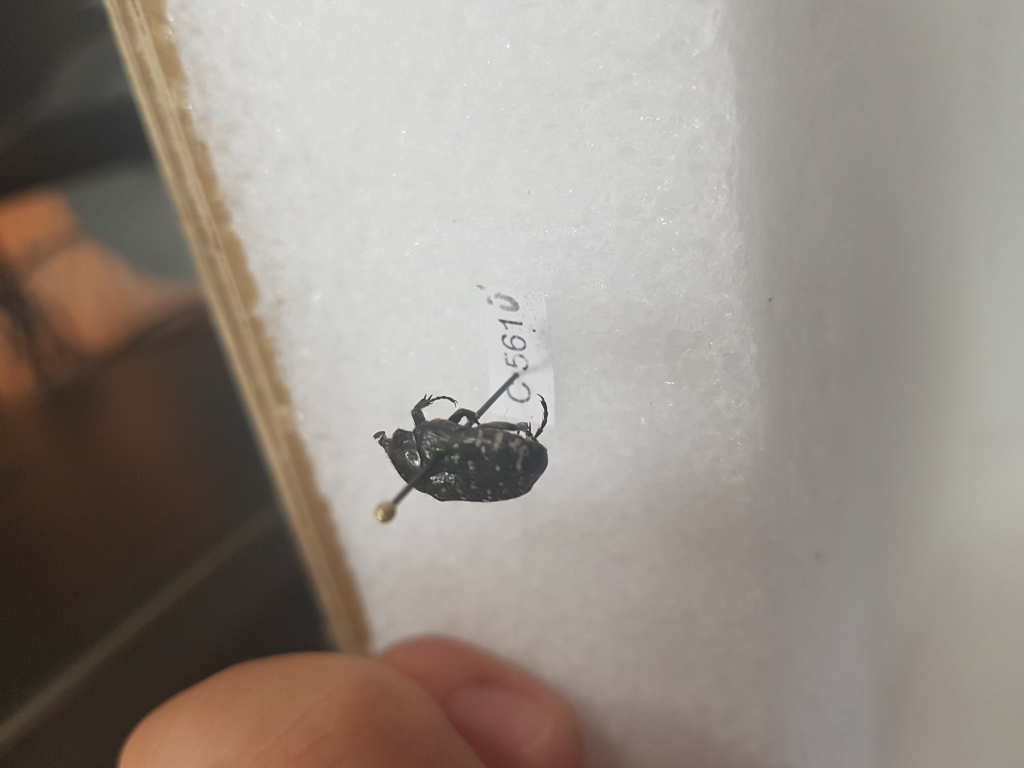Oxythyrea_albopicta: (367, 392, 552, 506)
